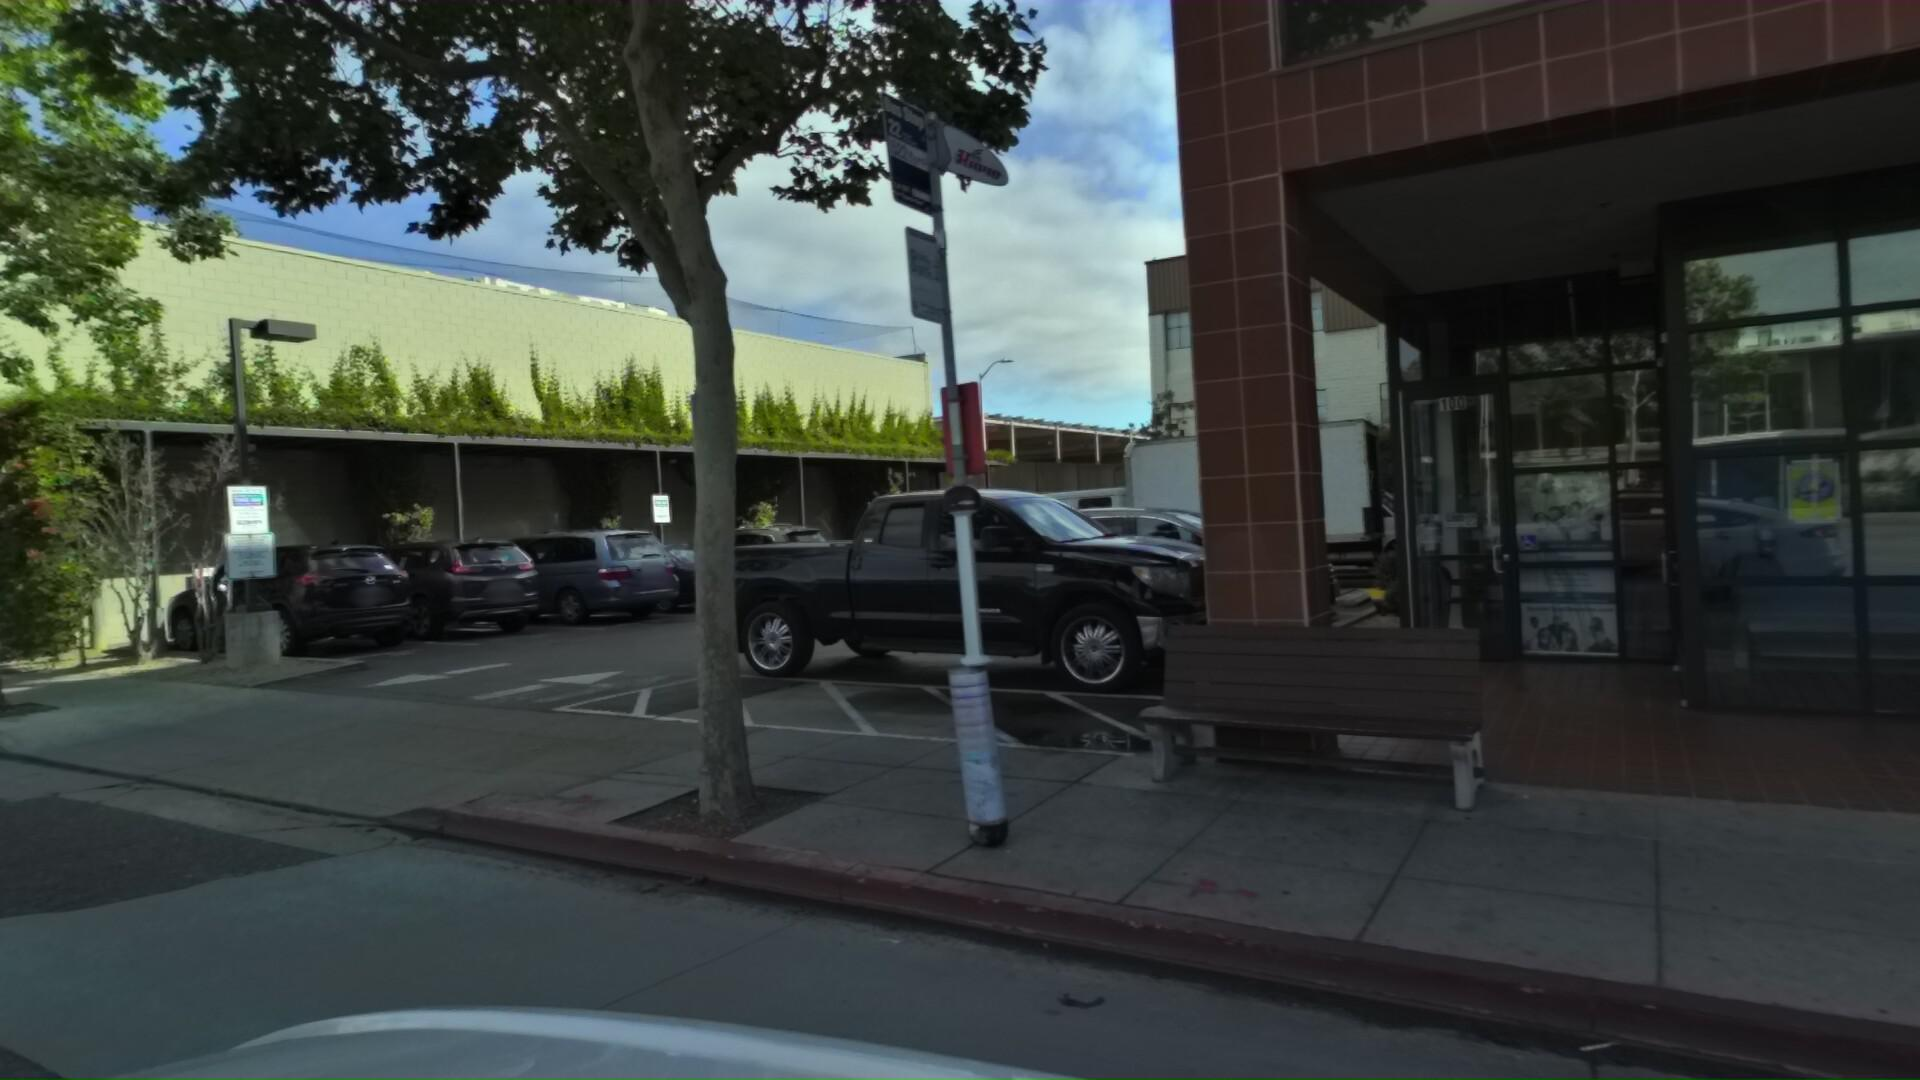car: (692, 451, 1294, 698), (146, 527, 442, 655), (293, 517, 564, 638)
